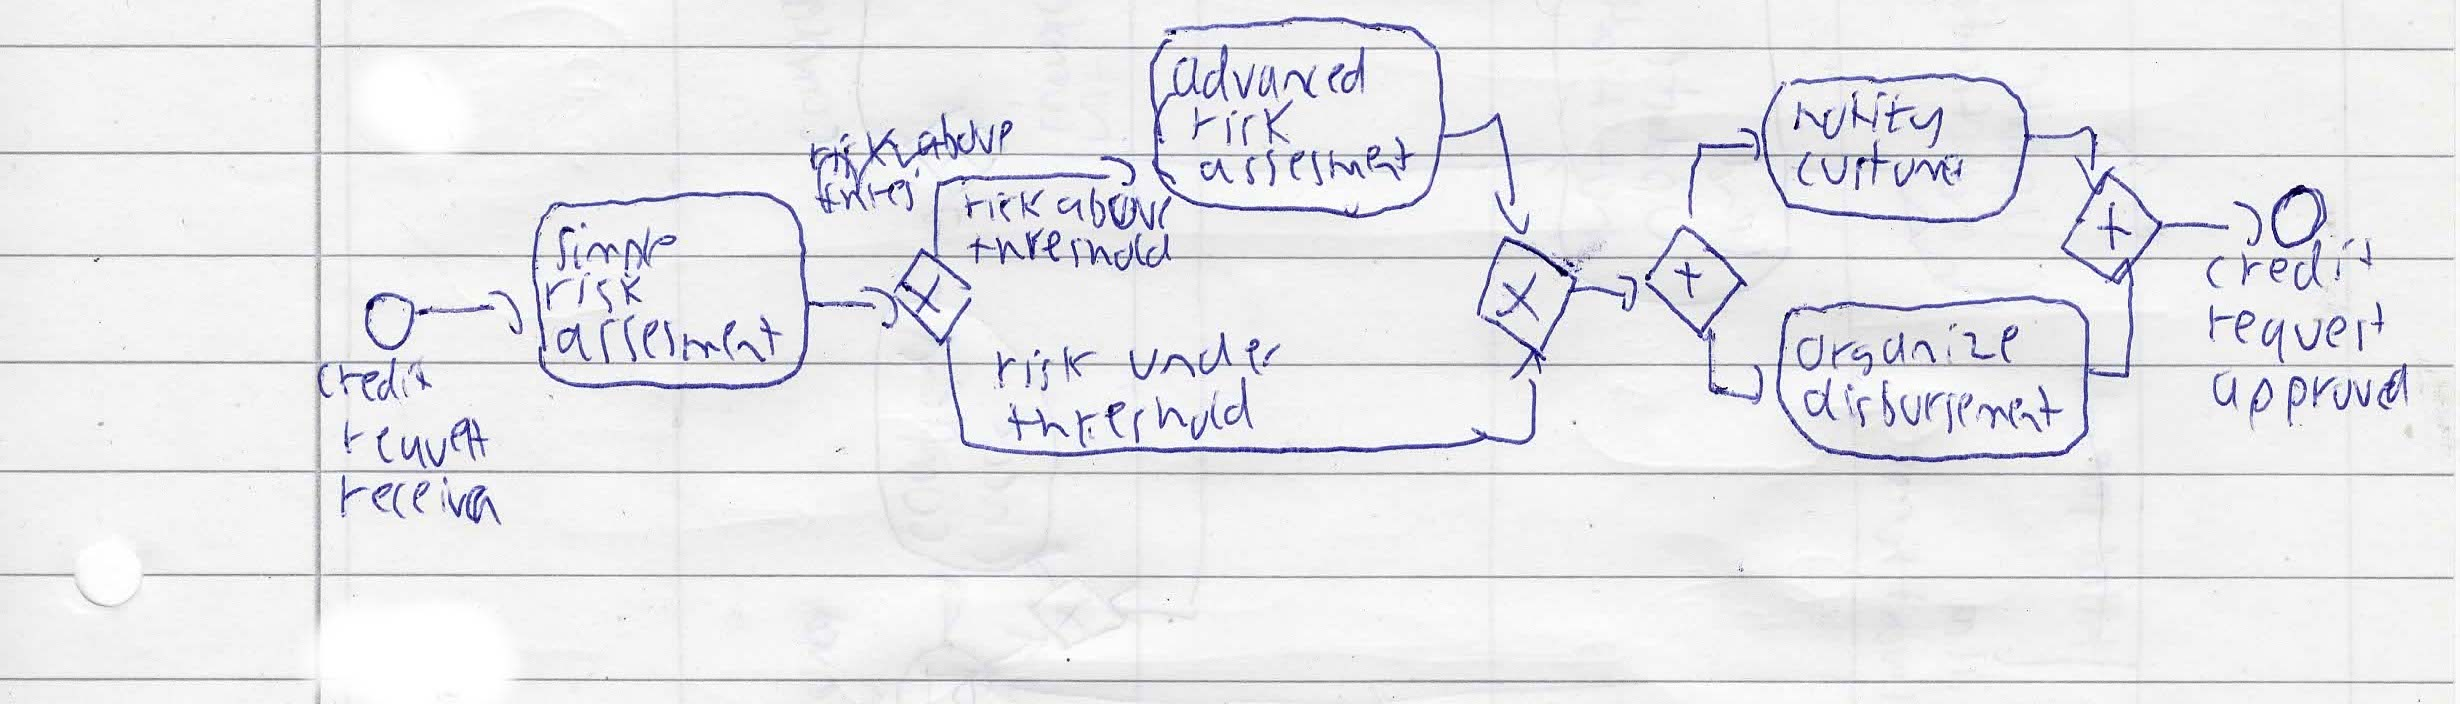Simple: (551, 218, 681, 276)
above: (1051, 183, 1177, 234), (912, 107, 1020, 165)
advanced: (1167, 41, 1373, 103)
approved: (2204, 359, 2418, 437)
assesment: (551, 310, 784, 372), (1195, 132, 1418, 190)
credit: (2200, 232, 2380, 295), (311, 354, 438, 406)
customer: (1793, 136, 1971, 194)
disbursement: (1798, 375, 2069, 439)
notify: (1789, 85, 1949, 154)
organize: (1792, 317, 2024, 383)
receive: (334, 474, 508, 532)
request: (2201, 296, 2393, 370), (337, 411, 499, 470)
risk: (990, 340, 1101, 398), (1186, 96, 1297, 151), (805, 124, 901, 183), (540, 268, 650, 318), (962, 185, 1050, 227)
threshold: (999, 372, 1260, 448), (963, 224, 1178, 278)
under: (1123, 325, 1285, 386)
